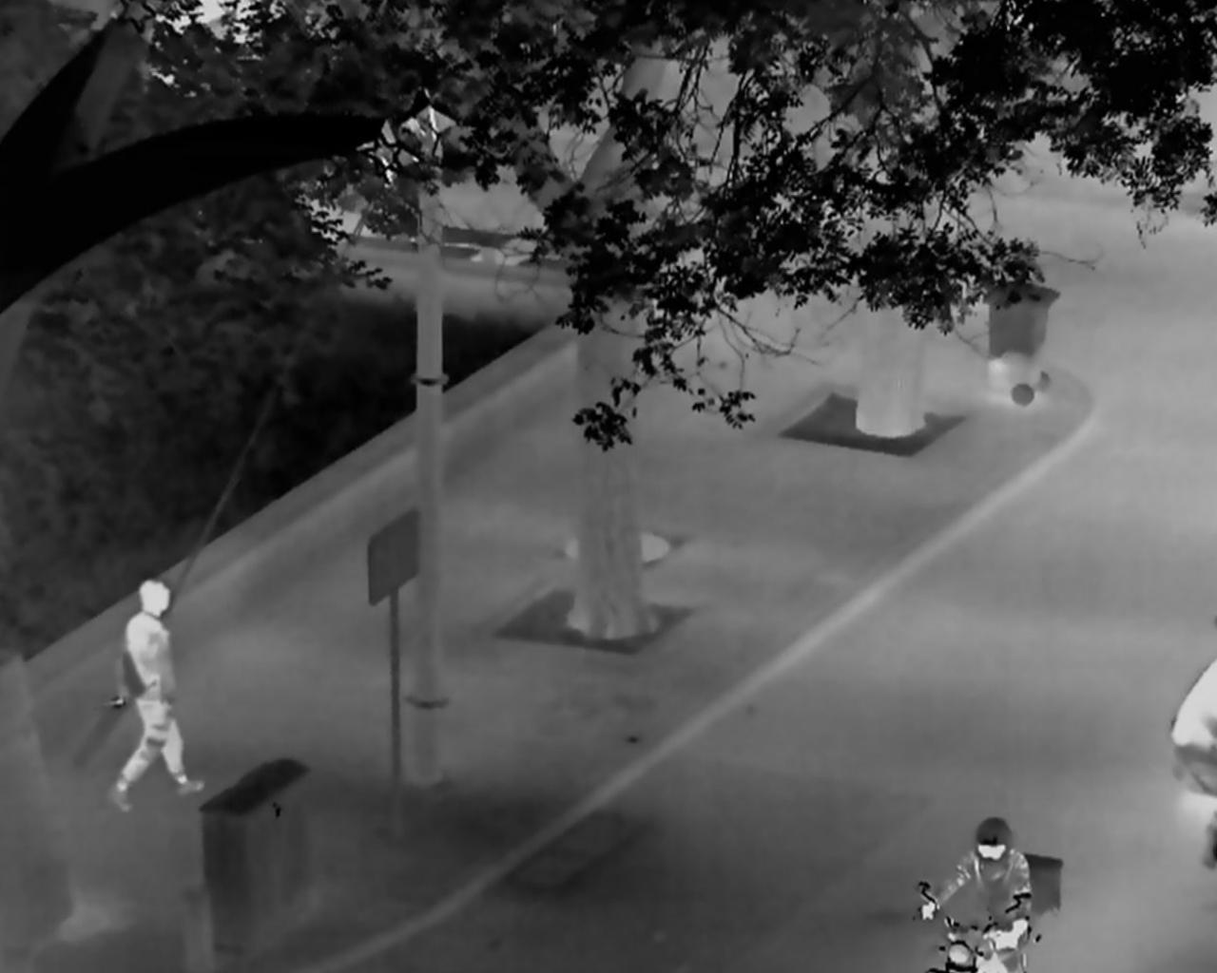person: (104, 579, 207, 812), (917, 818, 1033, 973)
